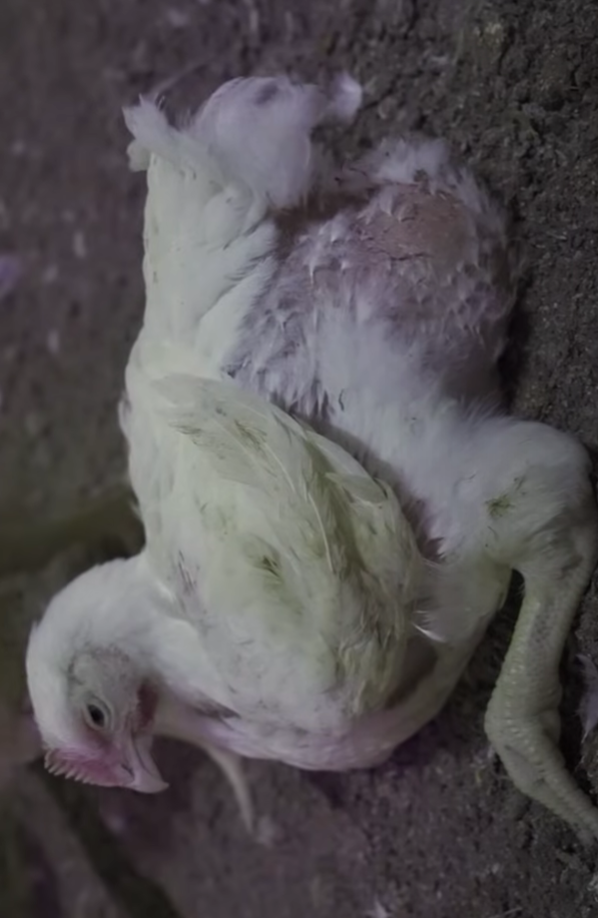Unhealthy: (16, 52, 586, 861)
